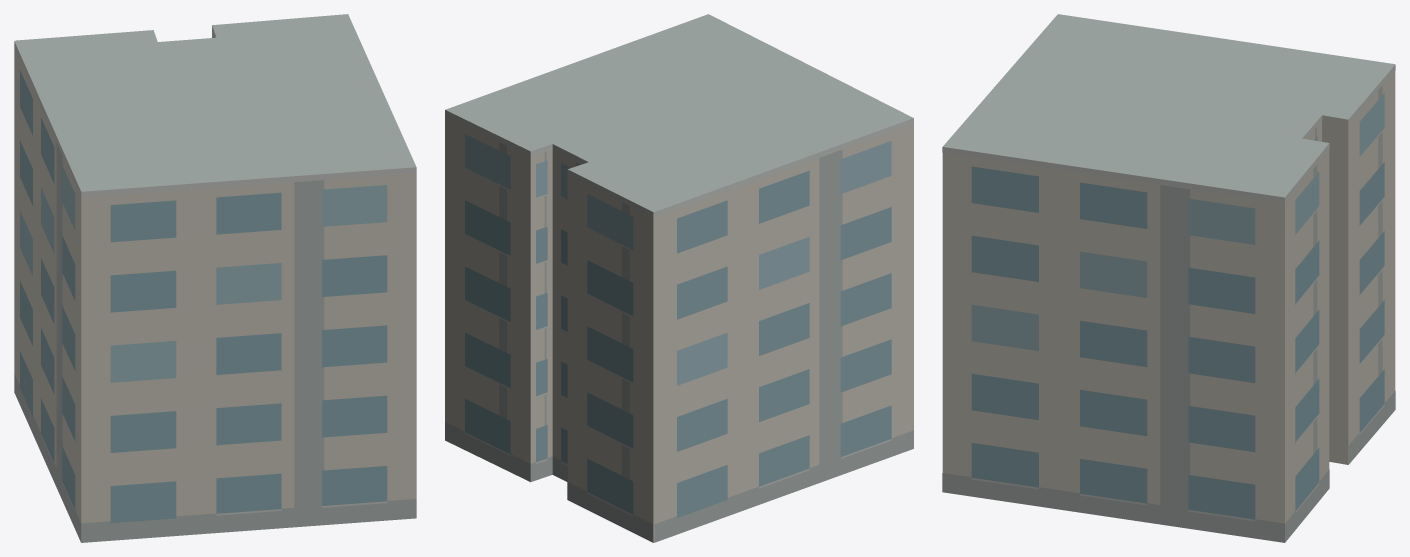
The model's file is survey-upis-32709536.glb.
3 views of the same model, side by side, from view 1: azimuth 30°, elevation 25°; view 2: azimuth 150°, elevation 25°; view 3: azimuth 270°, elevation 25° (orthographic). The views are drawn at different scales.
Visible parts, largest first — view 1: survey-upis-32709536.tmp; view 2: survey-upis-32709536.tmp; view 3: survey-upis-32709536.tmp.
Boxes of the visible parts, x1=… form: survey-upis-32709536.tmp: x1=14, y1=14, x2=416, y2=542; survey-upis-32709536.tmp: x1=445, y1=14, x2=913, y2=542; survey-upis-32709536.tmp: x1=942, y1=14, x2=1395, y2=542.
Size of the model in its own units: 16.3 by 14.3 by 17.01.
